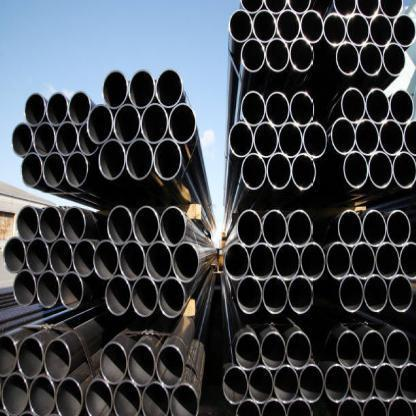pipe: (0, 373, 30, 415), (128, 343, 156, 387), (156, 345, 184, 389), (154, 138, 182, 180), (169, 103, 197, 144), (98, 139, 126, 180), (118, 240, 146, 281), (126, 138, 153, 180), (158, 276, 185, 318), (100, 342, 127, 384), (29, 374, 56, 416), (140, 103, 168, 143), (155, 68, 183, 108), (132, 275, 158, 318), (44, 338, 70, 381), (159, 206, 186, 247), (106, 274, 132, 316), (18, 336, 44, 378), (93, 239, 119, 280), (113, 379, 142, 415), (114, 104, 140, 144), (87, 104, 113, 144), (146, 242, 172, 282), (128, 68, 154, 108), (56, 377, 83, 415), (173, 242, 198, 283), (106, 206, 132, 245), (324, 364, 350, 403), (102, 70, 128, 109), (85, 379, 113, 415), (326, 242, 352, 280), (236, 276, 262, 314), (288, 276, 314, 314), (262, 276, 288, 314), (336, 330, 362, 368), (222, 366, 248, 404), (141, 381, 170, 415), (299, 364, 324, 403), (262, 210, 288, 247), (300, 243, 326, 280), (235, 333, 261, 370), (134, 206, 158, 246), (170, 383, 200, 415), (237, 209, 262, 247), (224, 243, 249, 281), (363, 274, 388, 312), (261, 332, 286, 370), (249, 366, 274, 404), (340, 87, 366, 123), (374, 363, 398, 402), (343, 151, 368, 188), (362, 210, 387, 247), (275, 243, 300, 280), (339, 275, 364, 312), (286, 332, 311, 369), (266, 152, 290, 190), (292, 152, 316, 190), (62, 206, 86, 244), (72, 239, 96, 277), (351, 242, 375, 280), (36, 270, 60, 308), (60, 272, 84, 310), (386, 330, 410, 368), (362, 330, 386, 368), (350, 364, 374, 402), (274, 365, 298, 403), (229, 121, 254, 157), (64, 151, 89, 187), (241, 154, 266, 190), (355, 119, 379, 156), (380, 119, 404, 156), (368, 151, 392, 188), (386, 210, 410, 247), (288, 210, 312, 247), (376, 242, 400, 279), (250, 243, 274, 280), (388, 275, 412, 312), (16, 204, 39, 242), (331, 118, 355, 154), (303, 122, 327, 158), (38, 206, 62, 242), (338, 210, 362, 246), (26, 237, 49, 274), (366, 88, 390, 123), (242, 91, 266, 126), (290, 92, 314, 127), (266, 92, 290, 127), (254, 122, 278, 157), (393, 151, 415, 189), (14, 268, 36, 306), (3, 236, 26, 272), (390, 90, 414, 124), (392, 14, 416, 48), (290, 38, 314, 72), (266, 38, 290, 72), (241, 38, 265, 72), (336, 42, 360, 76), (68, 90, 90, 126), (42, 152, 64, 188), (300, 10, 324, 43), (12, 122, 34, 157), (34, 122, 56, 157), (229, 10, 253, 42), (276, 10, 300, 42), (347, 13, 370, 46), (382, 43, 405, 76), (324, 13, 346, 47), (360, 42, 382, 76), (253, 10, 276, 42), (56, 121, 77, 156), (21, 152, 42, 187), (0, 334, 17, 377), (370, 14, 392, 47), (47, 92, 68, 126), (25, 93, 46, 126), (78, 124, 100, 155), (399, 362, 415, 403), (400, 242, 416, 280), (387, 397, 414, 415), (356, 0, 381, 19), (379, 0, 404, 19), (362, 397, 388, 415), (286, 398, 312, 416), (337, 397, 362, 415), (404, 120, 416, 157), (261, 399, 287, 415), (235, 399, 261, 415), (287, 0, 312, 15), (334, 0, 356, 17), (264, 0, 288, 15), (240, 0, 264, 14)
